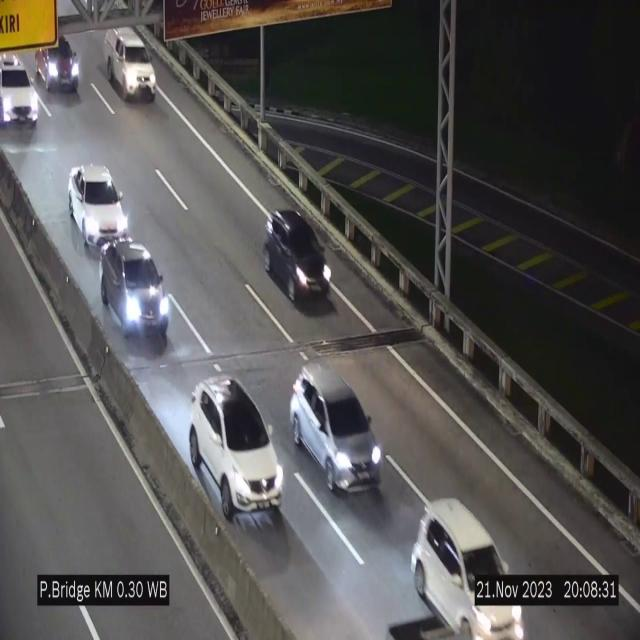Car: (411, 499, 522, 640), (189, 378, 283, 525), (290, 364, 385, 492), (100, 236, 172, 344), (263, 210, 333, 308), (68, 164, 130, 252), (0, 40, 42, 132), (104, 27, 156, 101), (38, 30, 88, 101)
